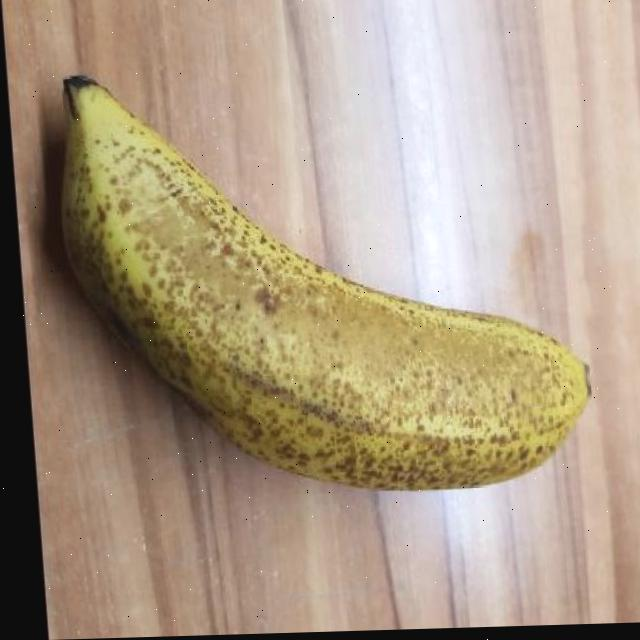banana: (35, 60, 602, 501)
